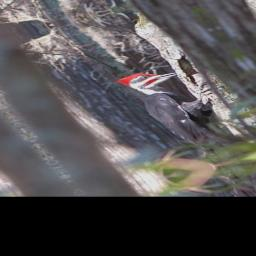Woodpecker: (111, 59, 256, 166)
